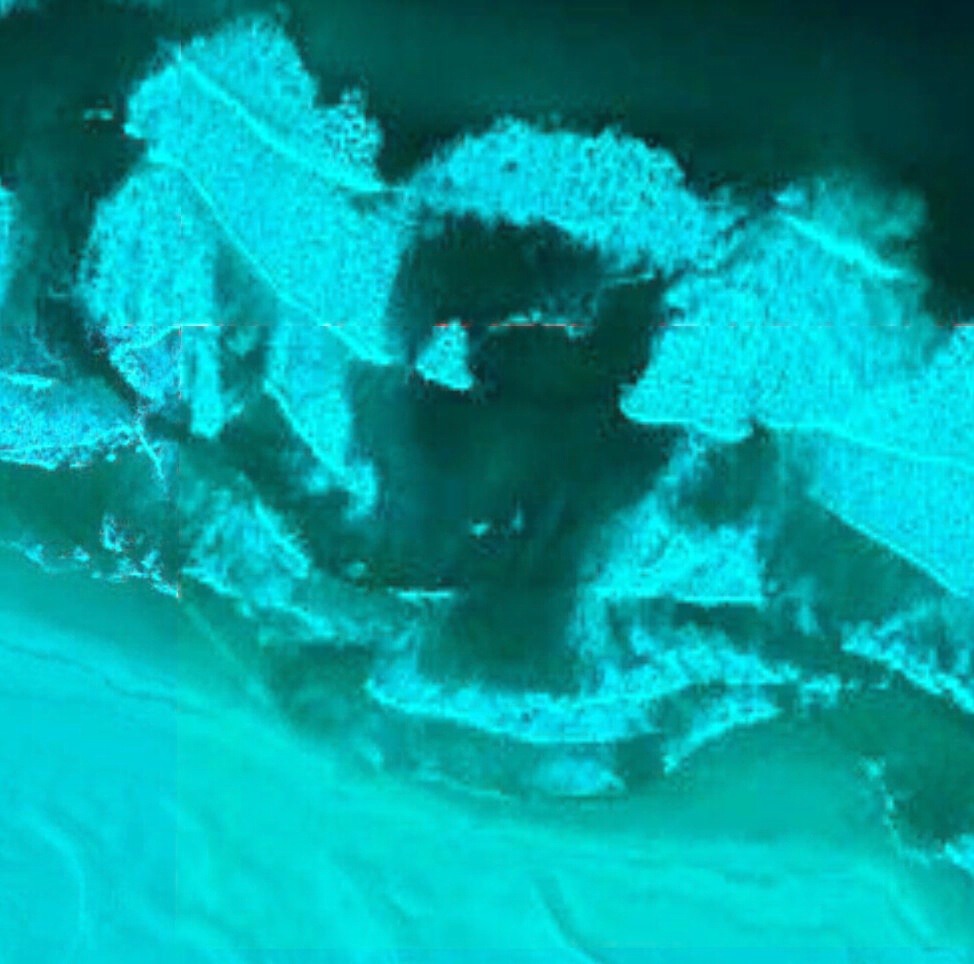rip_current: (334, 132, 690, 728)
